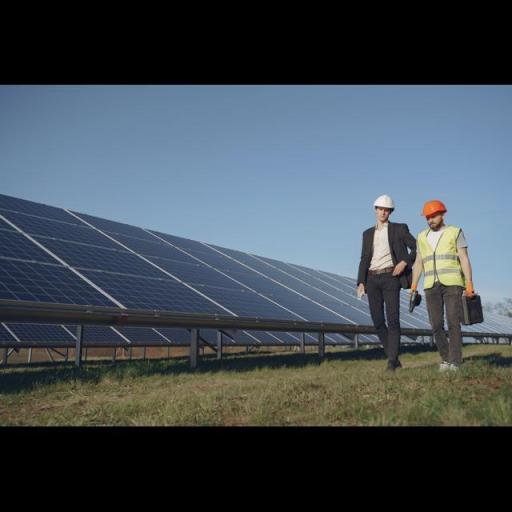Person: (408, 183, 499, 361), (344, 172, 420, 374)
helmet: (418, 198, 448, 224), (369, 190, 398, 212)
none: (344, 219, 412, 289)
vest: (412, 229, 468, 299)
